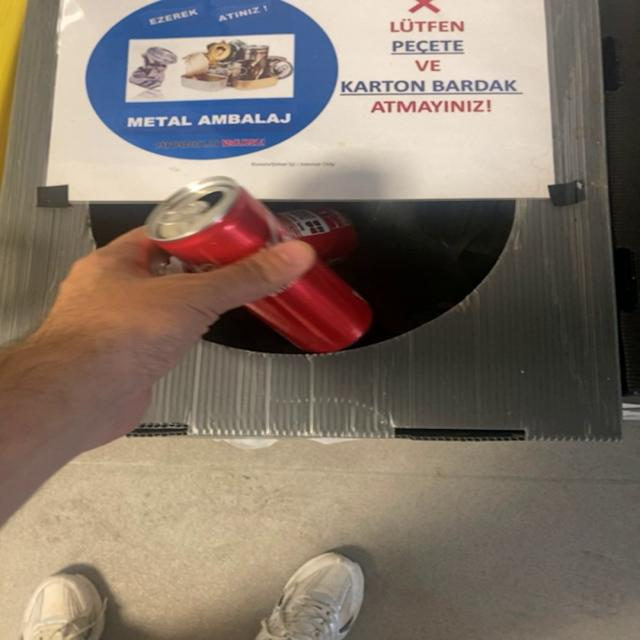bin: (133, 0, 621, 441), (1, 0, 89, 341), (329, 49, 532, 120)
metal: (144, 176, 354, 269), (249, 266, 371, 352)
